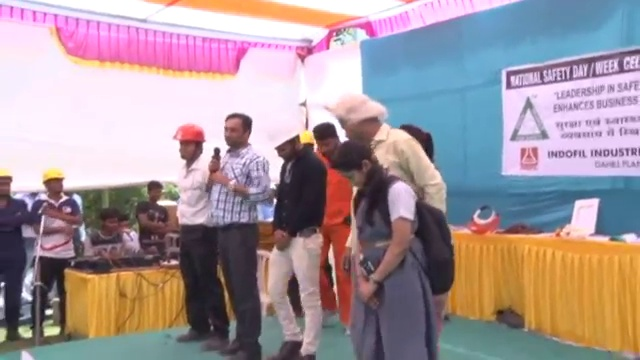helmet: (270, 126, 301, 151), (172, 121, 205, 144), (42, 169, 66, 183), (0, 163, 16, 180)
helmet_off: (331, 142, 385, 194), (337, 95, 391, 141), (218, 115, 255, 154), (309, 122, 338, 154), (95, 210, 119, 235), (144, 181, 162, 208)
helmet_on: (172, 122, 204, 162), (270, 126, 301, 163), (41, 169, 66, 201), (0, 166, 17, 207)
person: (330, 141, 451, 360), (205, 114, 271, 359), (261, 125, 328, 359), (166, 117, 230, 353), (336, 93, 450, 213), (310, 119, 356, 336), (26, 170, 83, 343), (0, 164, 30, 344), (82, 208, 141, 259), (135, 182, 171, 249)
